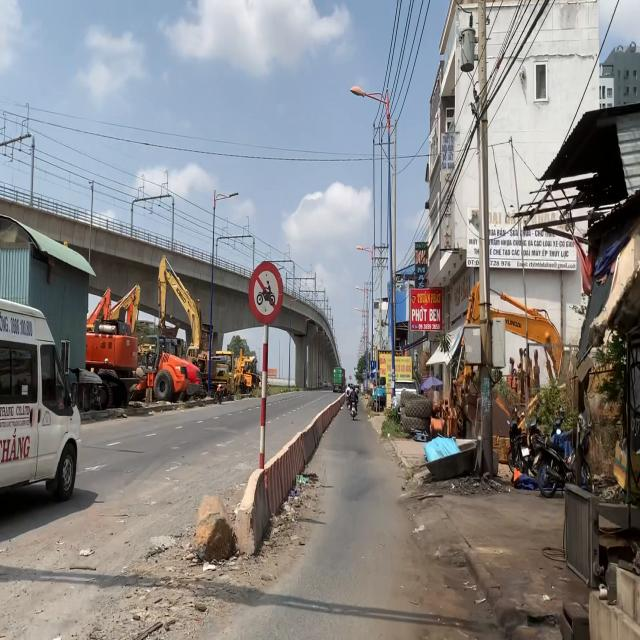Cam con lai: (248, 261, 283, 323)
